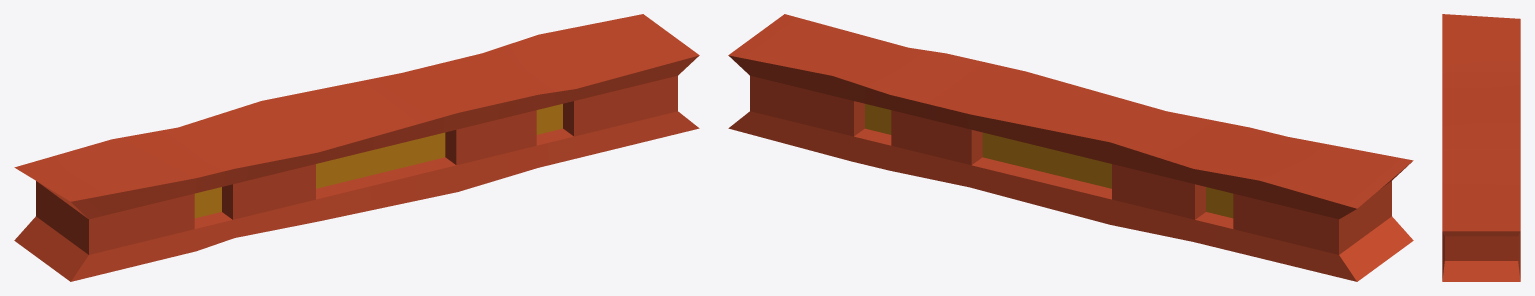
File: Beam.FBX
3 views of the same model, side by side, from view 1: azimuth 30°, elevation 25°; view 2: azimuth 150°, elevation 25°; view 3: azimuth 270°, elevation 25° (orthographic). The views are drawn at different scales.
Visible parts, largest first — view 1: Box001; view 2: Box001; view 3: Box001.
Boxes of the visible parts, left/top/right/bottom form: Box001: left=14, top=14, right=699, bottom=281; Box001: left=728, top=14, right=1413, bottom=281; Box001: left=1442, top=14, right=1520, bottom=281.
Size of the model in its own units: 177 by 22.8 by 27.56.
